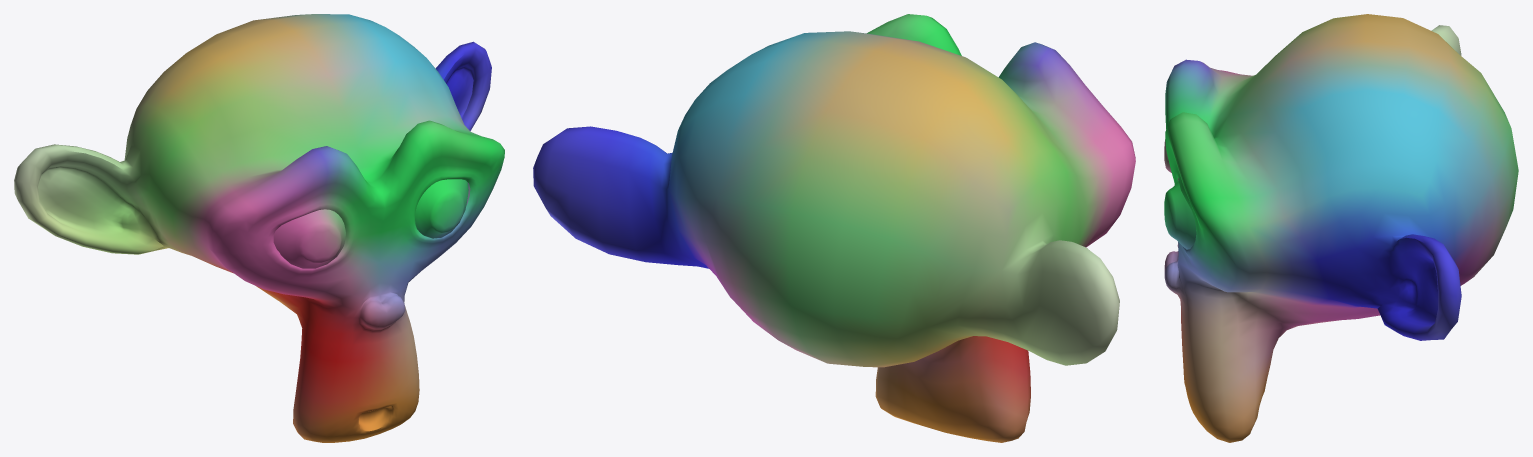
Rendered from Suzanne_Color.fbx.
3 renders of one model, left to right at view 1: azimuth 30°, elevation 25°; view 2: azimuth 150°, elevation 25°; view 3: azimuth 270°, elevation 25°, orthographic. The views are drawn at different scales.
Visible parts, largest first — view 1: モンキー; view 2: モンキー; view 3: モンキー.
Part boxes in pixels (<box>): モンキー: <box>14,14,504,442</box>; モンキー: <box>533,14,1135,442</box>; モンキー: <box>1164,14,1518,442</box>.
Bounding box in the file's own units: 265 × 191 × 160.
